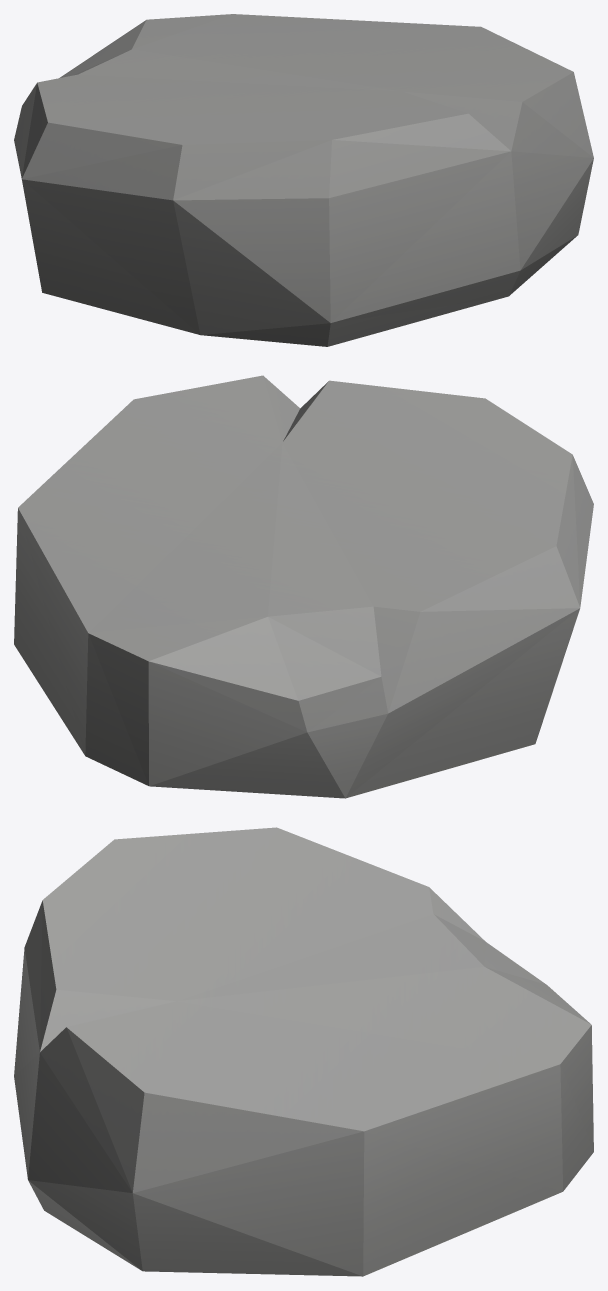
Rendered from Cavern_RockMed-03.fbx.
3 renders of one model, top to bottom at view 1: azimuth 30°, elevation 25°; view 2: azimuth 150°, elevation 25°; view 3: azimuth 270°, elevation 25°, orthographic. The views are drawn at different scales.
Visible parts, largest first — view 1: Cavern_RockMed-03; view 2: Cavern_RockMed-03; view 3: Cavern_RockMed-03.
Part boxes in pixels (left/top/right/bottom): Cavern_RockMed-03: left=14, top=14, right=593, bottom=346; Cavern_RockMed-03: left=14, top=375, right=593, bottom=798; Cavern_RockMed-03: left=14, top=827, right=593, bottom=1276.
Size of the model in its own units: 179 by 67.85 by 164.
1 material, 1 textured.
